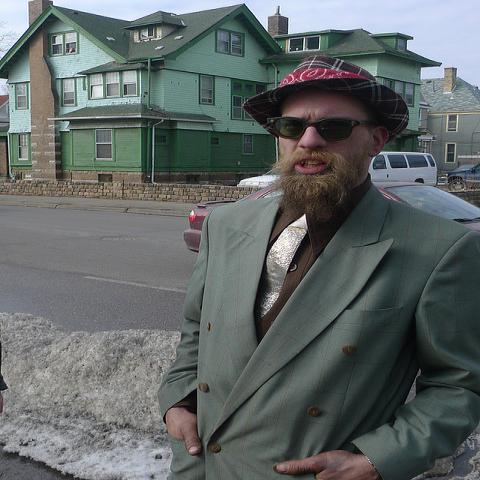car: (181, 182, 479, 255), (370, 152, 436, 188), (445, 162, 479, 191)
